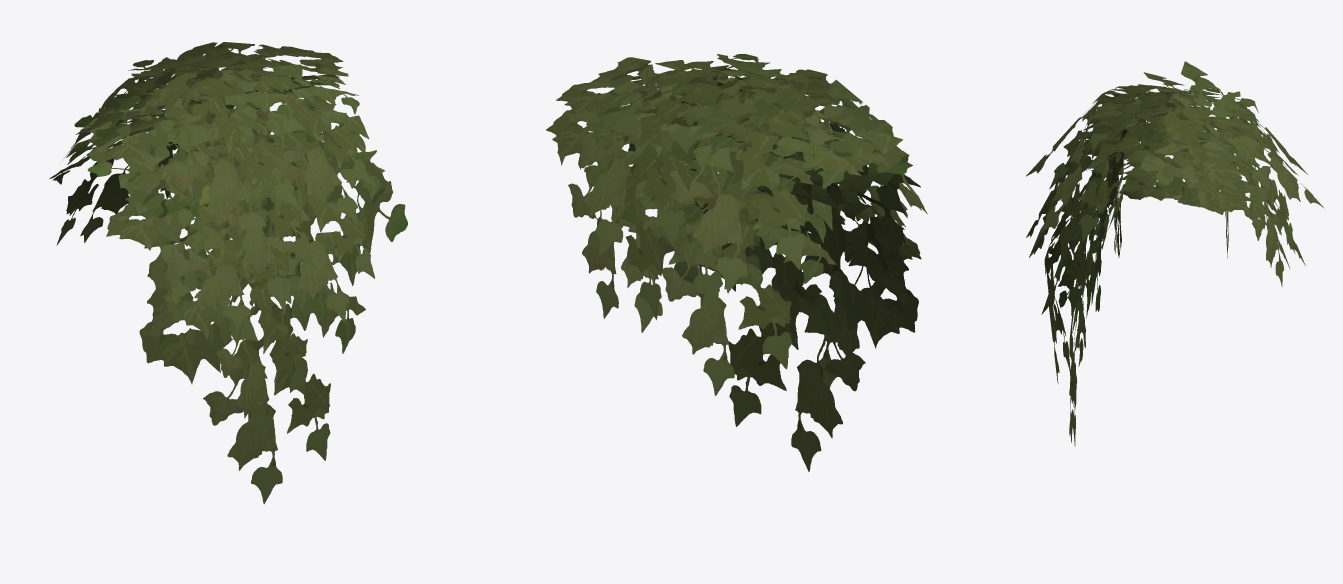
3 views of the same model, side by side, from view 1: azimuth 30°, elevation 25°; view 2: azimuth 150°, elevation 25°; view 3: azimuth 270°, elevation 25° (orthographic). The views are drawn at different scales.
Parts seen in each view (by area): view 1: body0_model0_lod0_mesh0; view 2: body0_model0_lod0_mesh0; view 3: body0_model0_lod0_mesh0.
Part boxes in pixels (x1,y1,x2,y2): body0_model0_lod0_mesh0: [49, 42, 407, 503]; body0_model0_lod0_mesh0: [546, 54, 927, 471]; body0_model0_lod0_mesh0: [1026, 61, 1324, 446].
Size of the model in its own units: 69.9 by 71.42 by 51.8.
Materials: 1 (1 with a texture image).
